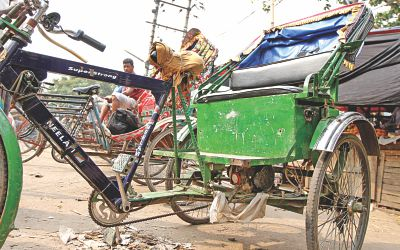Rickshaw: (1, 1, 368, 247)
